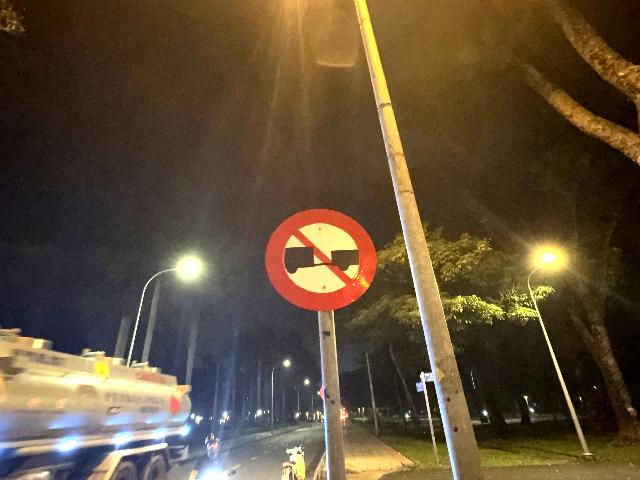cam-xe-somi-romooc: (264, 210, 377, 312)
